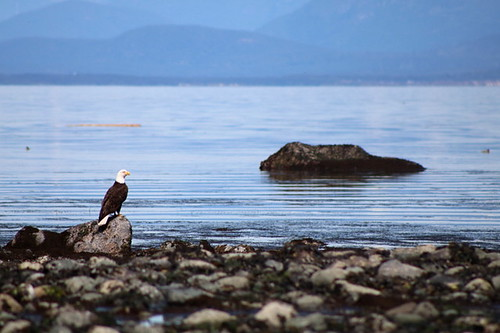animal: (85, 164, 139, 226)
rocks: (1, 229, 500, 333)
sea: (1, 81, 491, 230)
